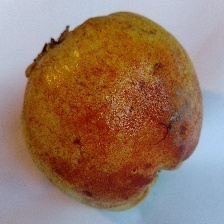guava: (48, 19, 212, 192)
